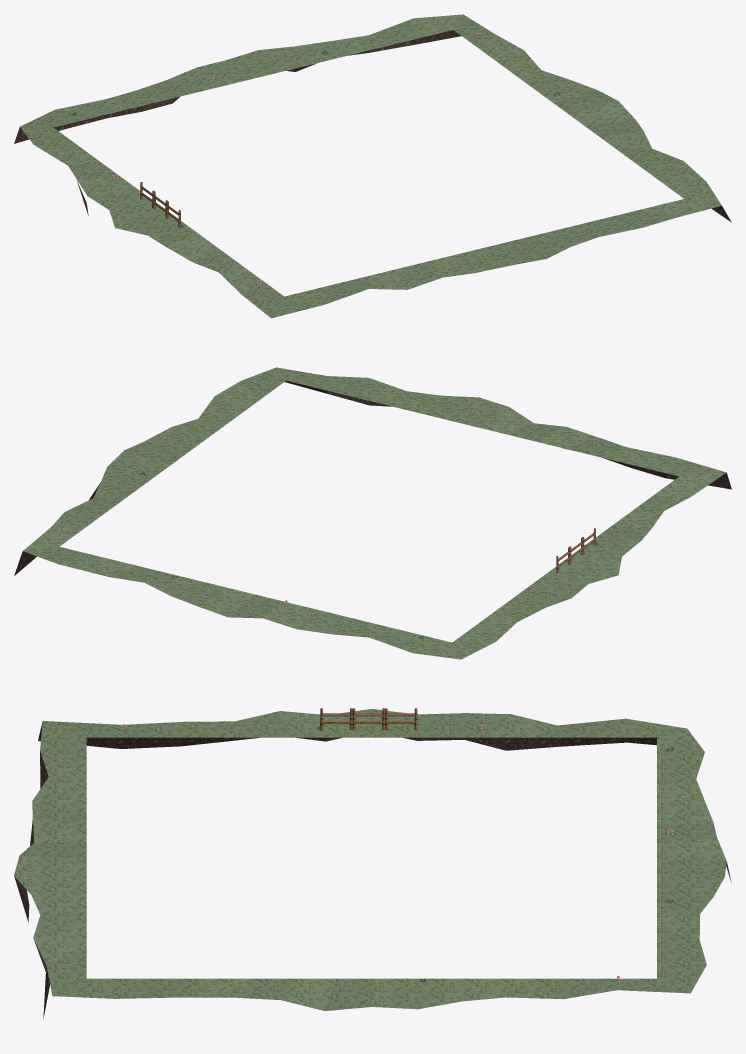
The model's file is entorno_16.glb.
The picture shows the model from 3 angles, top to bottom: view 1: azimuth 30°, elevation 25°; view 2: azimuth 150°, elevation 25°; view 3: azimuth 270°, elevation 25°; orthographic projection. The views are drawn at different scales.
Parts seen in each view (by area): view 1: bosque_entorno_16; view 2: bosque_entorno_16; view 3: bosque_entorno_16.
Part boxes in pixels (x1,y1,x2,y2): bosque_entorno_16: (14, 14, 731, 318); bosque_entorno_16: (14, 367, 731, 659); bosque_entorno_16: (14, 708, 731, 1018).
Size of the model in its own units: 20.59 by 1.7 by 20.39.
7 materials, 5 textured.
